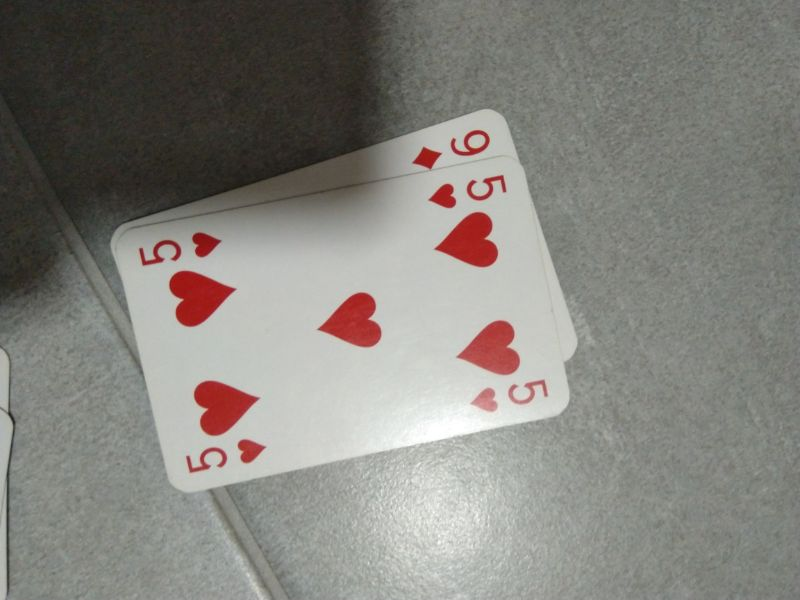5h: (126, 224, 240, 271), (175, 435, 271, 479), (467, 372, 558, 416), (427, 173, 510, 211)
9d: (408, 123, 497, 172)
